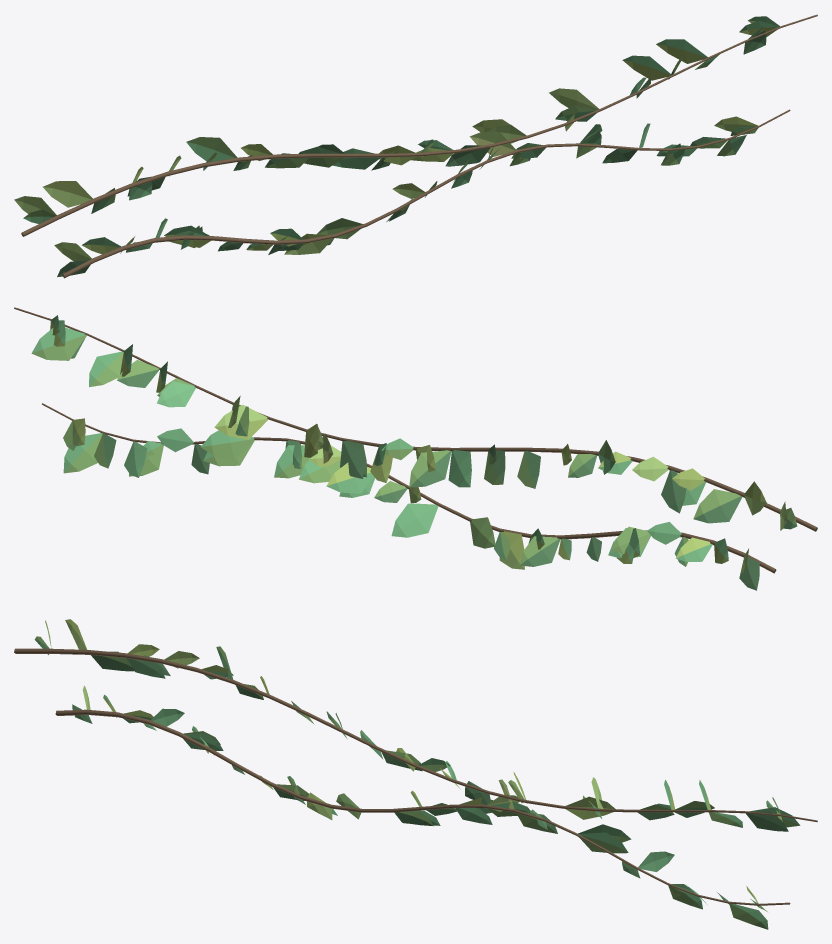
The model's file is Ivy_01_Horizontal.glb.
3 views of the same model, one above another, from view 1: azimuth 30°, elevation 25°; view 2: azimuth 150°, elevation 25°; view 3: azimuth 330°, elevation 25° (orthographic).
Parts seen in each view (by area): view 1: Ivy_01_Horizontal; view 2: Ivy_01_Horizontal; view 3: Ivy_01_Horizontal.
Part boxes in pixels (x1,y1,x2,y2): Ivy_01_Horizontal: (14,14,817,278); Ivy_01_Horizontal: (14,307,817,590); Ivy_01_Horizontal: (14,619,817,929).
Bounding box in the file's own units: 2.9 × 0.5359 × 0.1638.
